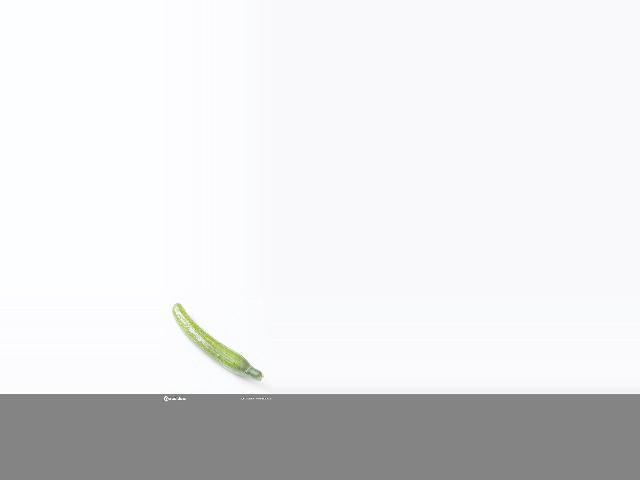cucumber: (173, 303, 264, 380)
